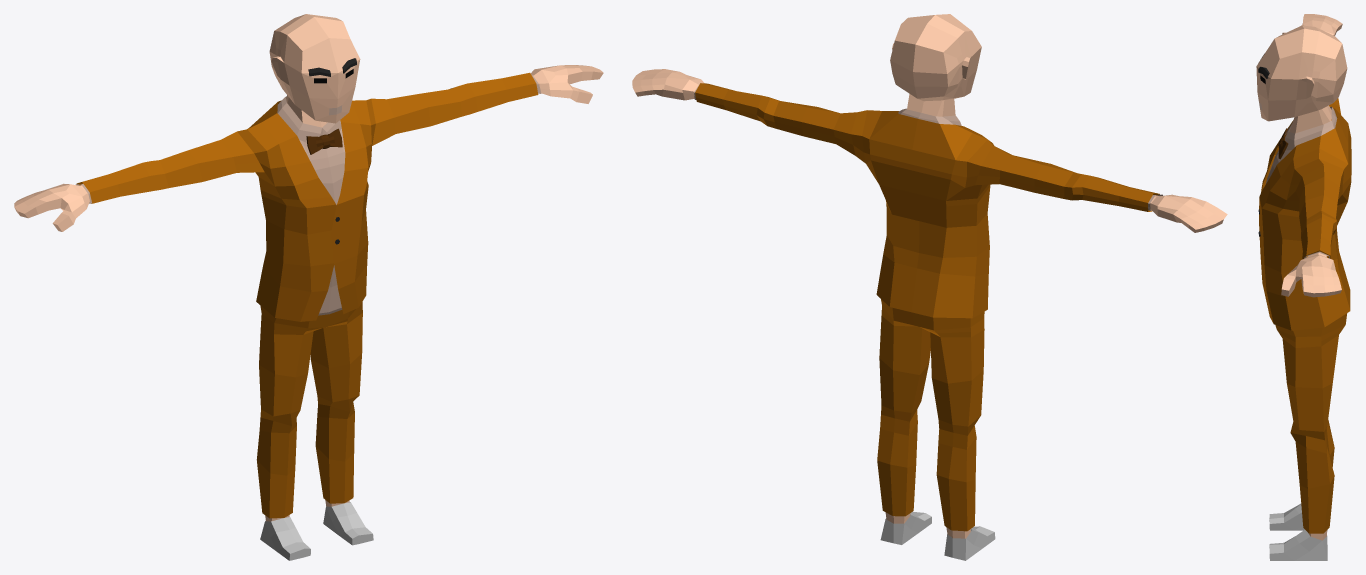
Rendered from NPC_Naranjazo_Escenario2_Pajarita.fbx.
3 views of the same model, side by side, from view 1: azimuth 30°, elevation 25°; view 2: azimuth 150°, elevation 25°; view 3: azimuth 270°, elevation 25° (orthographic). The views are drawn at different scales.
Parts seen in each view (by area): view 1: Personaje; view 2: Personaje; view 3: Personaje.
Boxes of the visible parts, x1,y1,x2,y2 form: Personaje: (14,14,603,560); Personaje: (632,14,1227,560); Personaje: (1256,14,1351,560).
Size of the model in its own units: 215 by 184 by 30.94.
